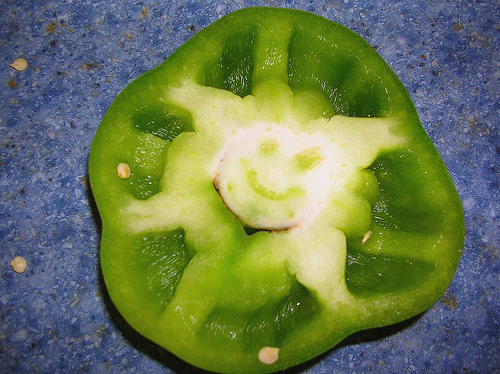capsicum: (83, 6, 466, 371)
